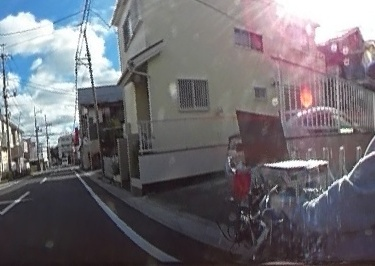person: (285, 26, 375, 258)
